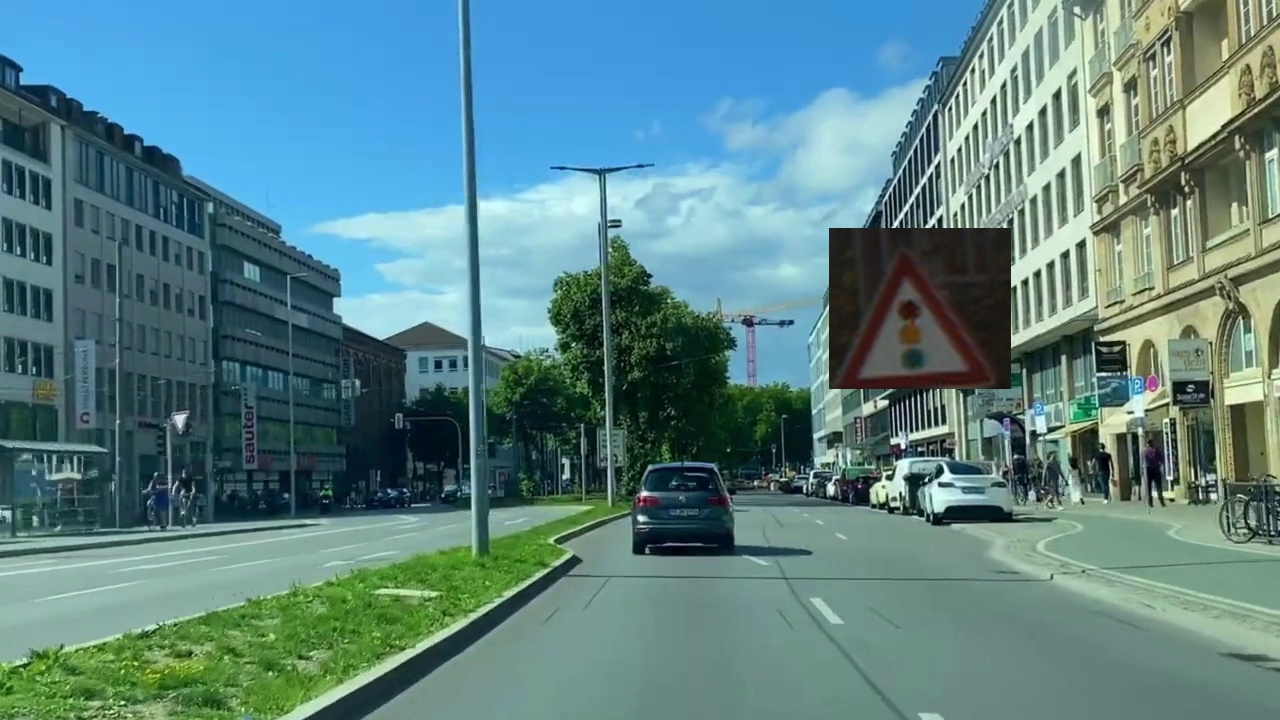Signals: (829, 228, 1011, 389)
